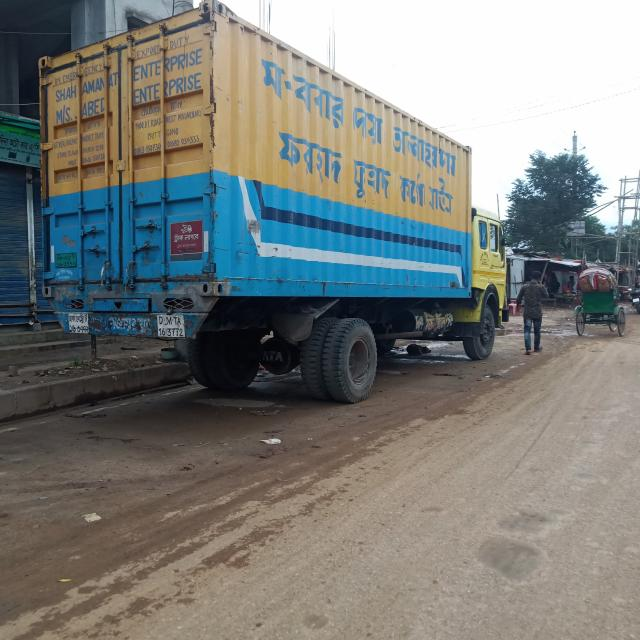truck: (26, 0, 513, 413)
